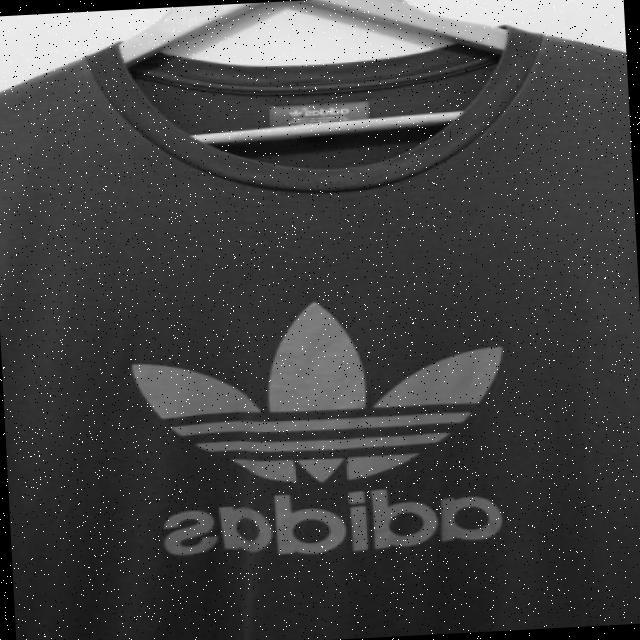Adidas: (121, 277, 525, 575)
